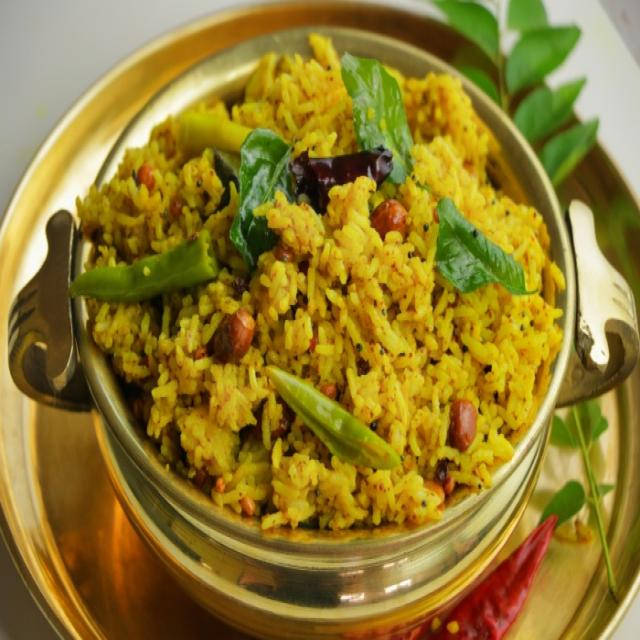puliyogare: (66, 6, 568, 568)
